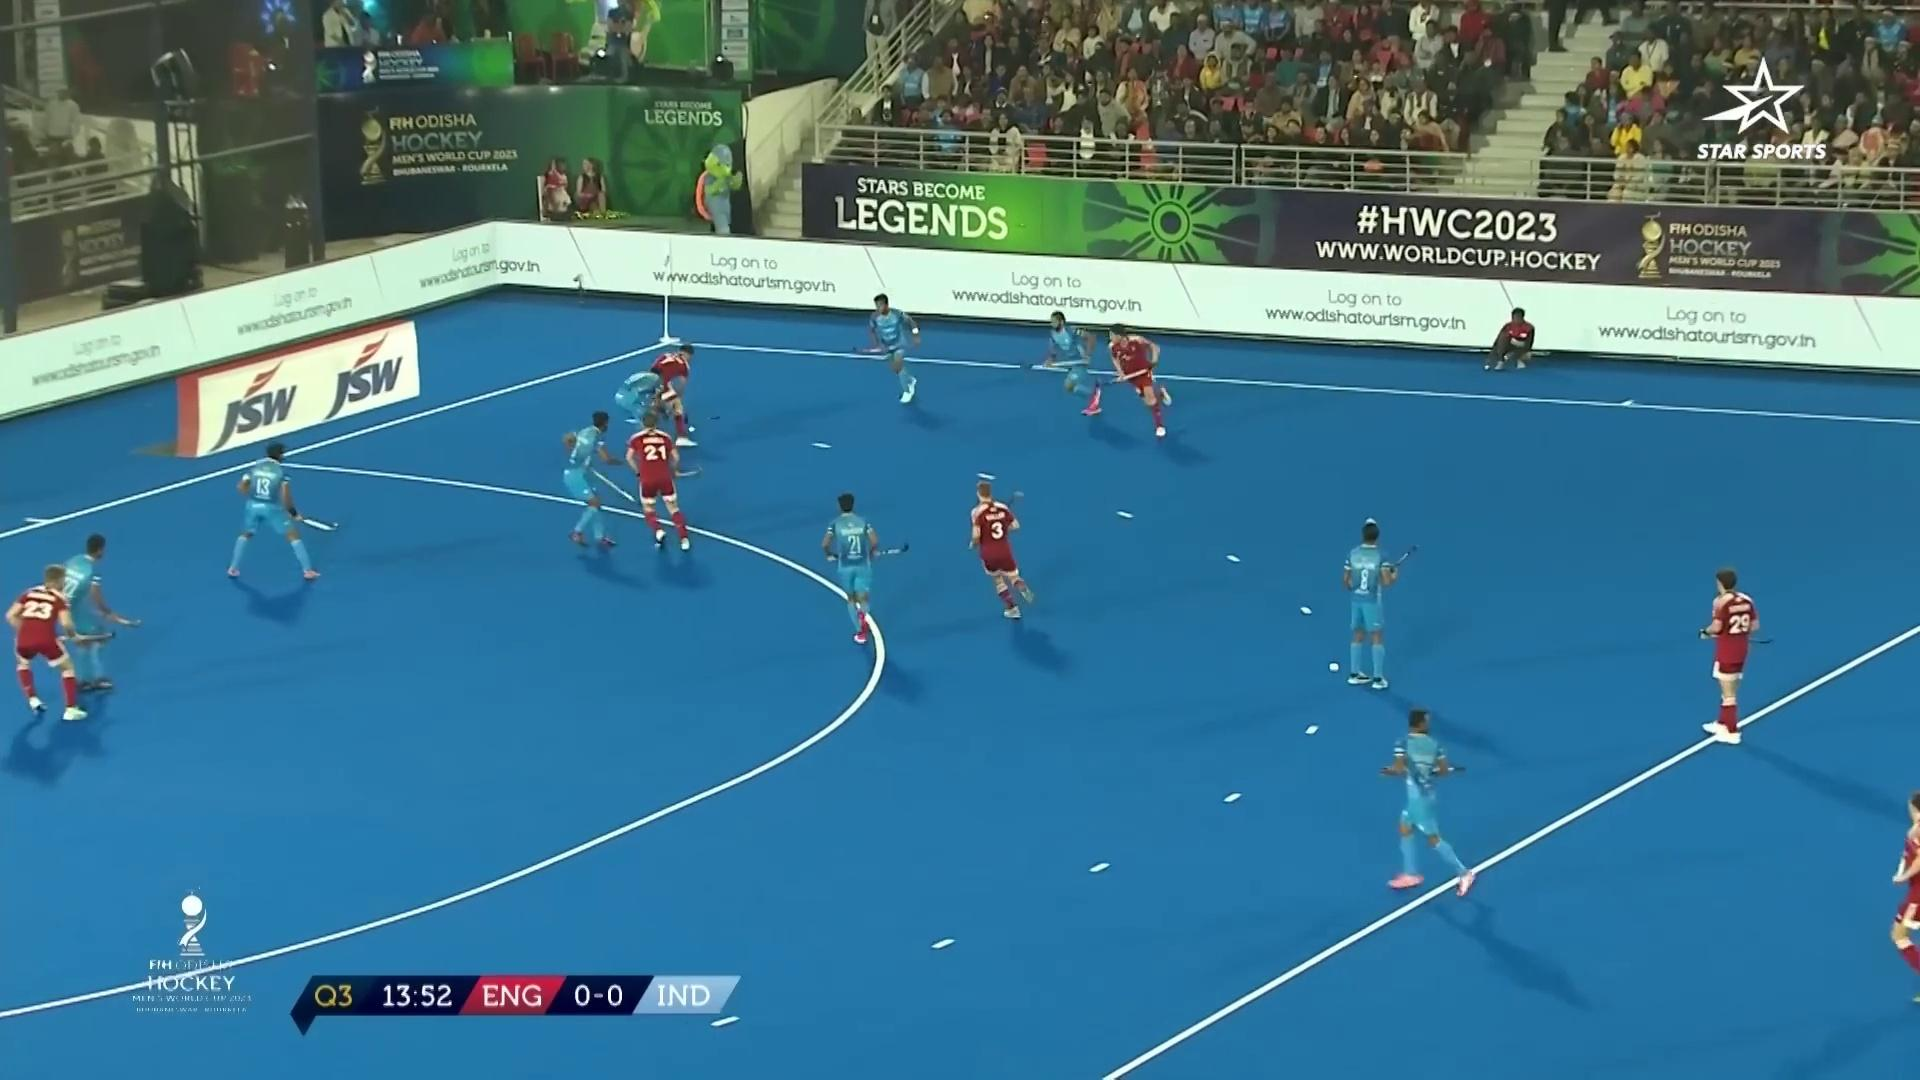ball: (686, 423, 696, 434)
